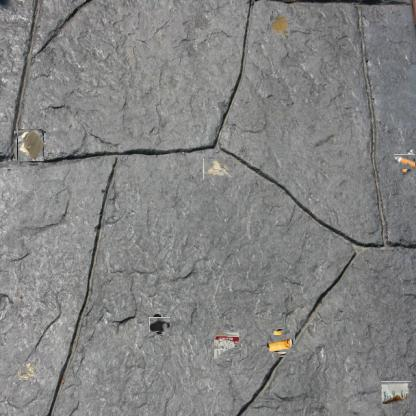dirty: (212, 330, 242, 360), (15, 130, 45, 160), (382, 381, 412, 404), (203, 158, 234, 180), (270, 332, 292, 354), (16, 362, 36, 382), (397, 151, 416, 172)
liquid: (270, 14, 290, 38), (151, 315, 168, 334)
